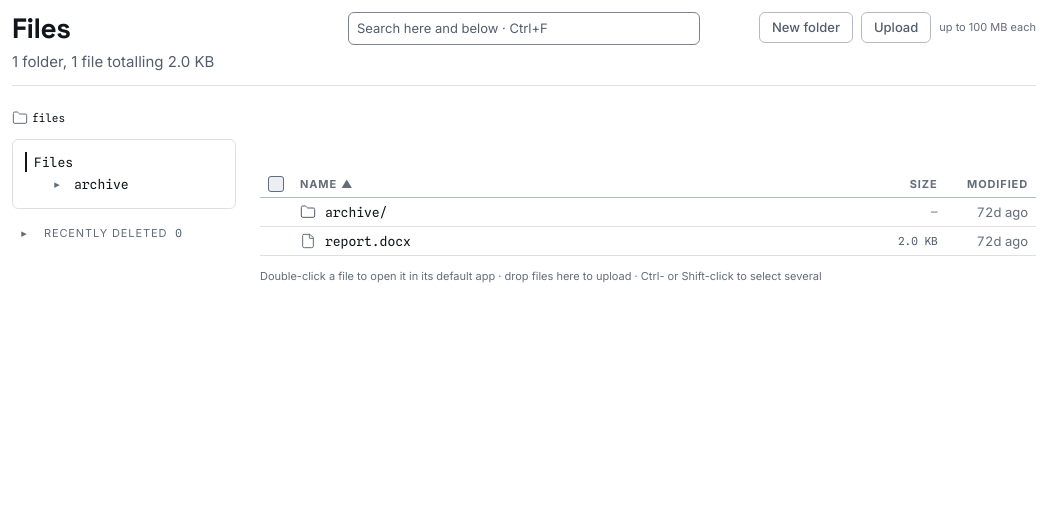
Test case: Files — moving › names a move refused by an existing destination
Right-click the text "report.docx" at (648, 241), box [260, 227, 1036, 256]
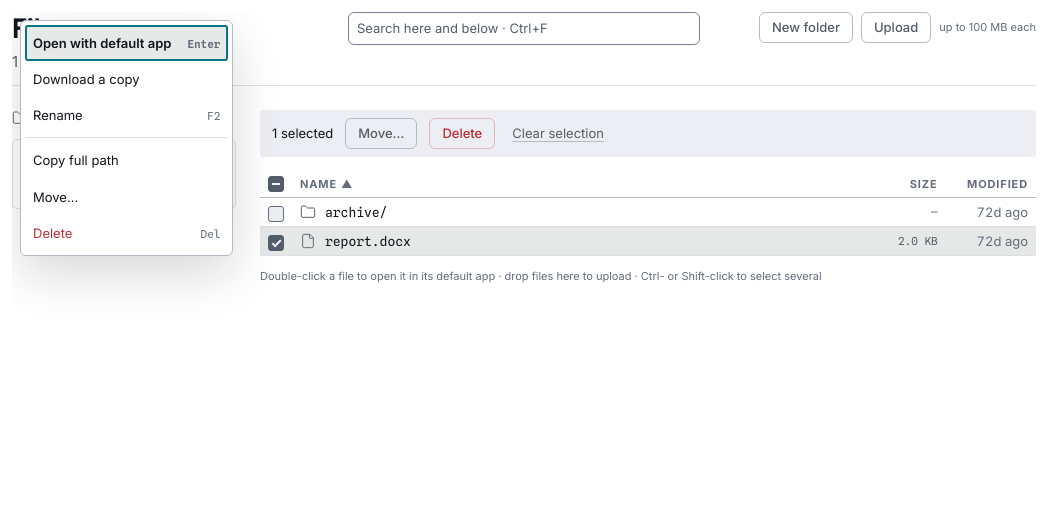
Click the menu item "Move…" at (127, 197), box [25, 179, 228, 215]
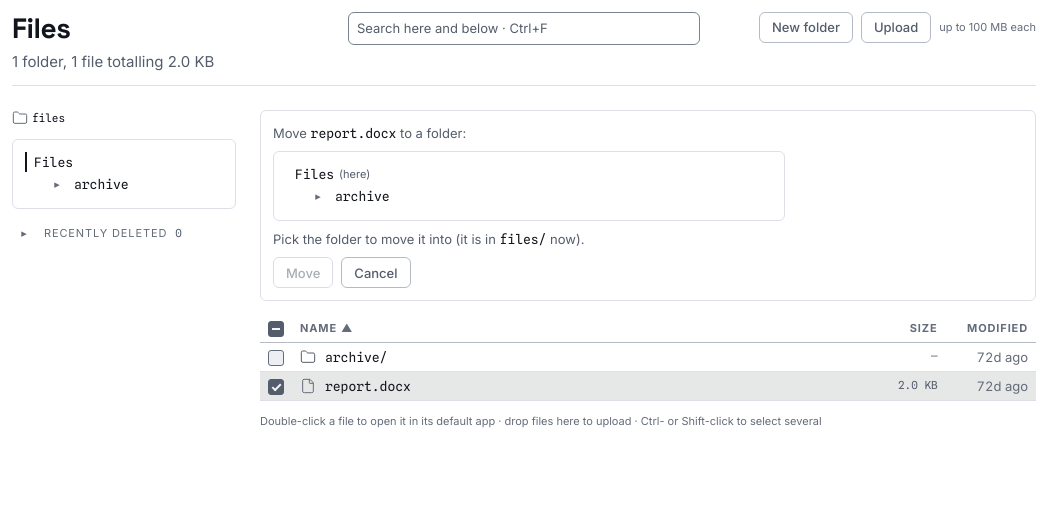
Click the button "archive" below "(here)" at (362, 196), box [334, 186, 391, 206]
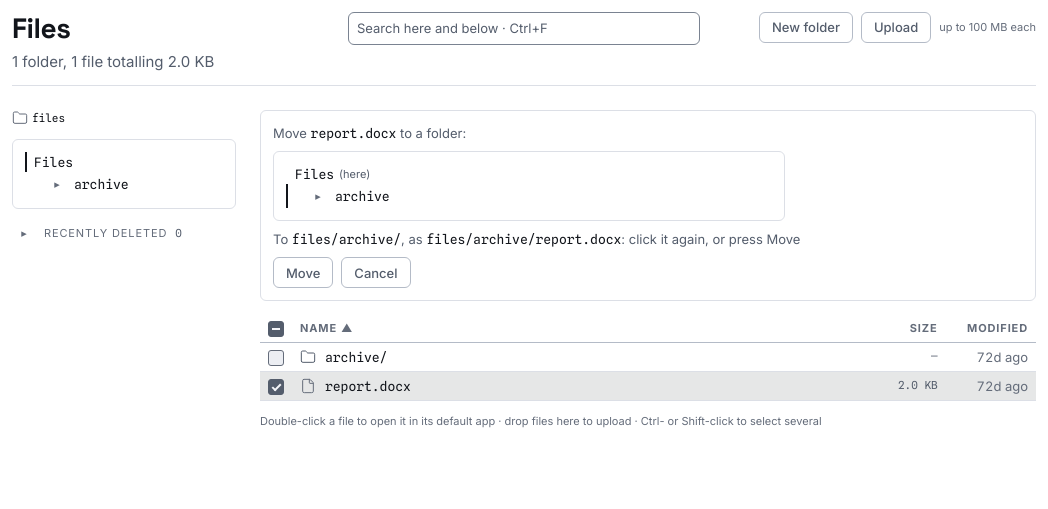
Click the button "Move" at (303, 273), box [273, 257, 333, 288]
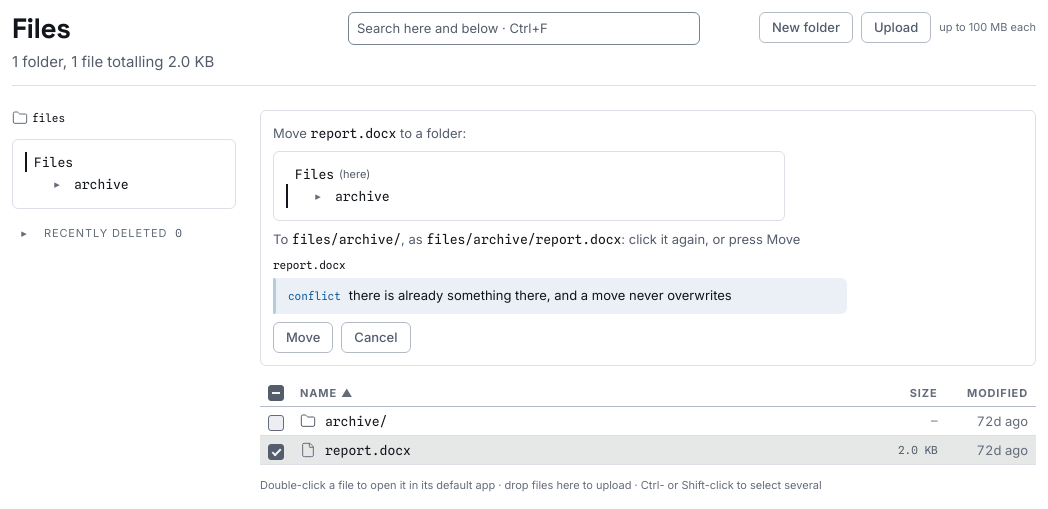
Result: the text "there is already something there" is shown at [349, 287, 732, 303]
